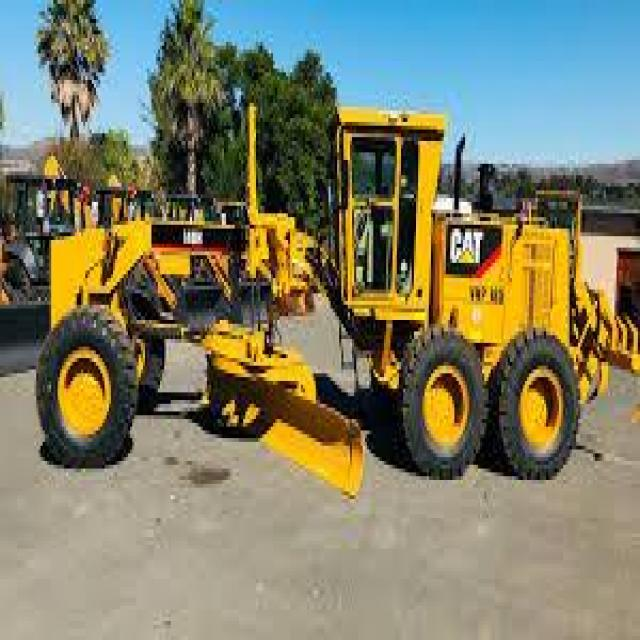Grader: (21, 72, 638, 568)
